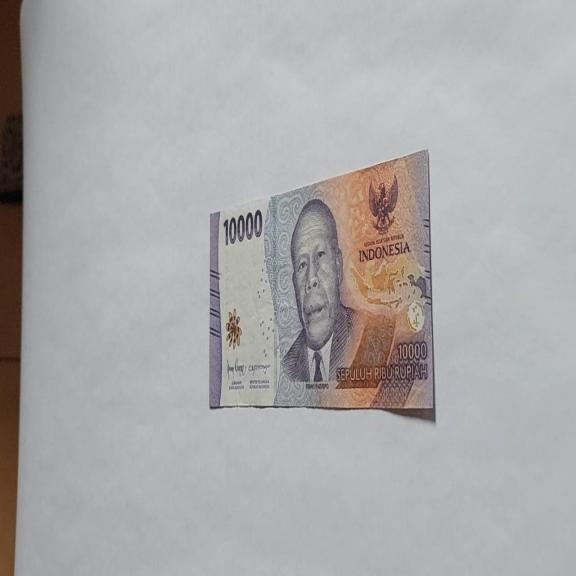Kertas: (208, 148, 436, 421), (222, 207, 263, 246)
